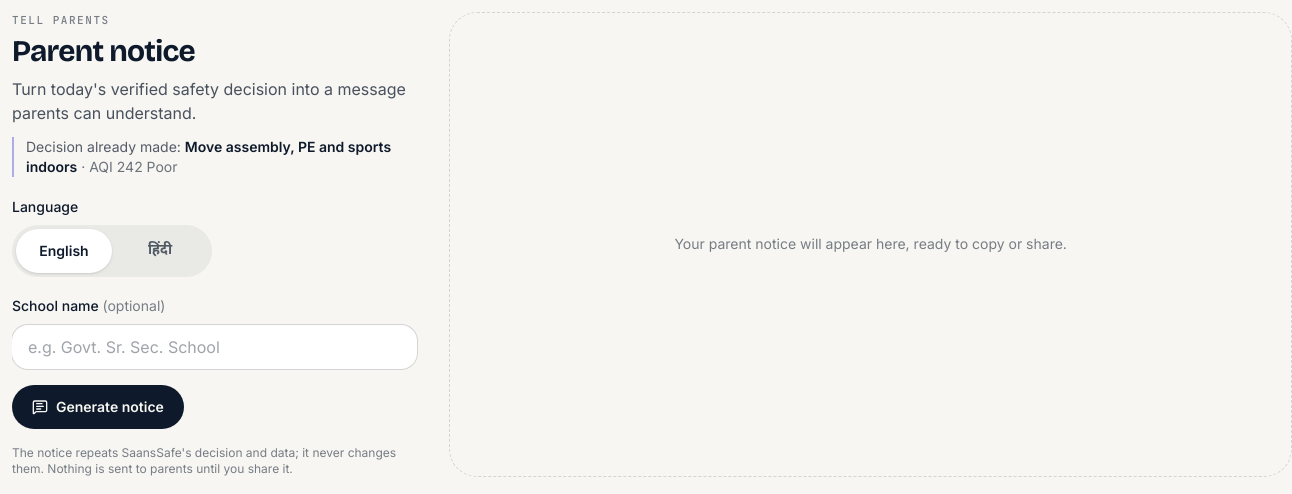
Scenario: ParentNotice › shows the server's school-name message without a pointless retry
Click the button "Generate notice": (98, 406) [12,384,184,428]
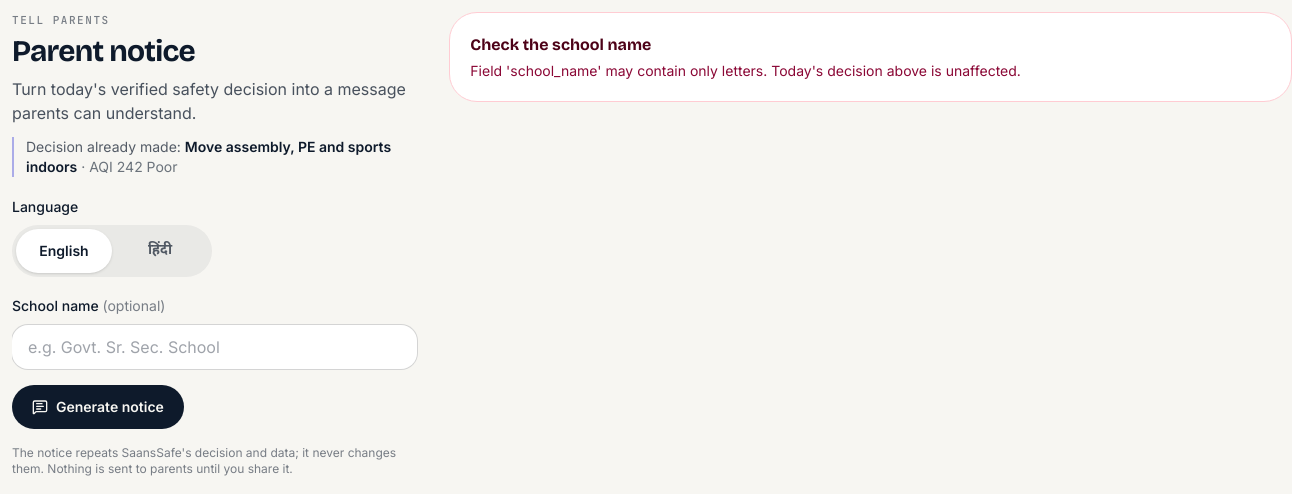
Now the message shows "Check the school name", box [470,35,651,54]
Now the message shows "may contain only letters", box [470,62,767,79]
